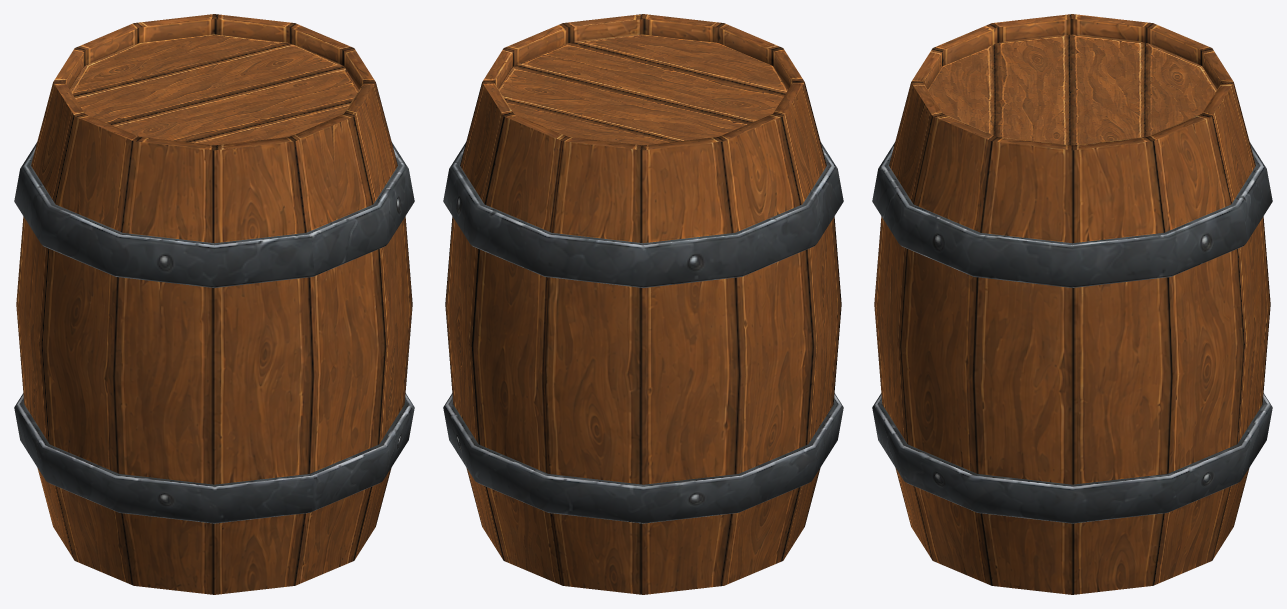
Rendered from Barrel01.fbx.
The picture shows the model from 3 angles, left to right: view 1: azimuth 30°, elevation 25°; view 2: azimuth 150°, elevation 25°; view 3: azimuth 270°, elevation 25°; orthographic projection.
Visible parts, largest first — view 1: Barrel01_LOD0; view 2: Barrel01_LOD0; view 3: Barrel01_LOD0.
Part boxes in pixels (x1,y1,x2,y2): Barrel01_LOD0: (14,14,414,594); Barrel01_LOD0: (443,14,843,594); Barrel01_LOD0: (872,14,1272,594).
Size of what is drawn, in the model's own units: 0.6474 by 0.7928 by 0.6474.
